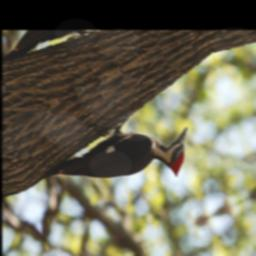Woodpecker: (20, 85, 202, 239)
